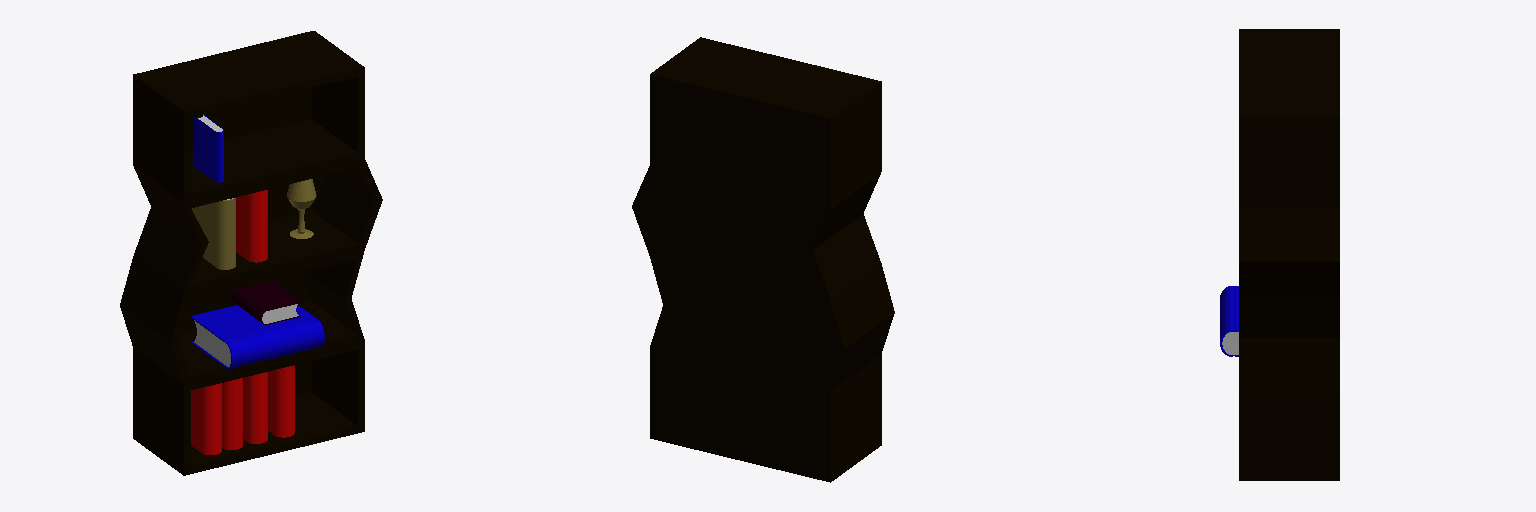
The model's file is shelf_pleine.obj.
The picture shows the model from 3 angles: view 1: azimuth 30°, elevation 25°; view 2: azimuth 150°, elevation 25°; view 3: azimuth 270°, elevation 25°; orthographic projection.
Parts seen in each view (by area): view 1: Cube_Cube.001, Circle.004, Circle.007, Circle.006_Circle.008, Circle, Circle.005, Circle.003, Circle.002, Circle.008_Circle.009, Circle.001, Cylinder; view 2: Cube_Cube.001; view 3: Cube_Cube.001, Circle.004.
Boxes of the visible parts, box(x1,y1,x2,y2) form: Cube_Cube.001: box(120, 31, 382, 475); Circle.004: box(191, 305, 324, 368); Circle.007: box(192, 198, 235, 269); Circle.006_Circle.008: box(236, 190, 267, 262); Circle: box(191, 383, 221, 454); Circle.005: box(232, 281, 300, 324); Circle.003: box(268, 365, 294, 437); Circle.002: box(243, 372, 267, 443); Circle.008_Circle.009: box(194, 114, 223, 182); Circle.001: box(222, 378, 242, 449); Cylinder: box(287, 179, 316, 238); Cube_Cube.001: box(632, 37, 894, 482); Cube_Cube.001: box(1239, 29, 1339, 480); Circle.004: box(1220, 286, 1238, 356).
Size of the model in its own units: 2.35 by 3.85 by 1.15.